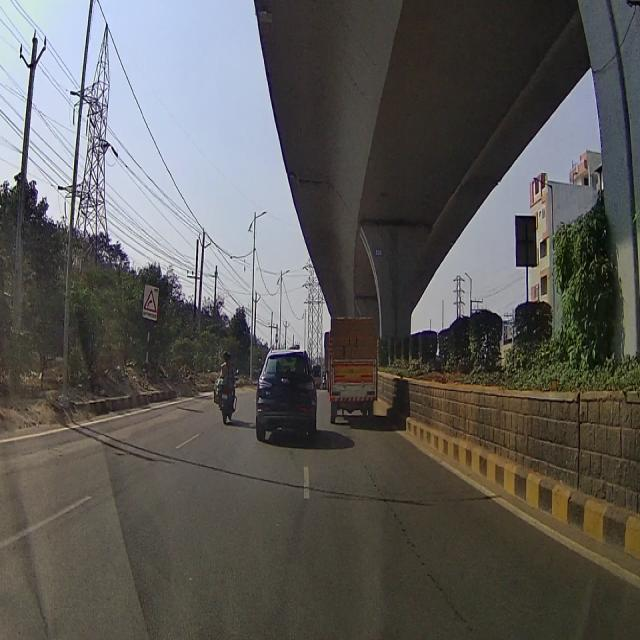right-hand-curve: (143, 281, 157, 315)
